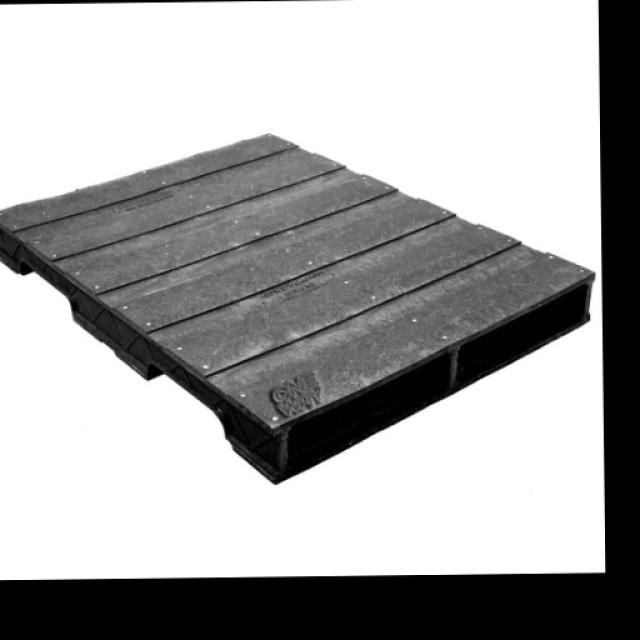non-igps: (0, 125, 601, 491)
